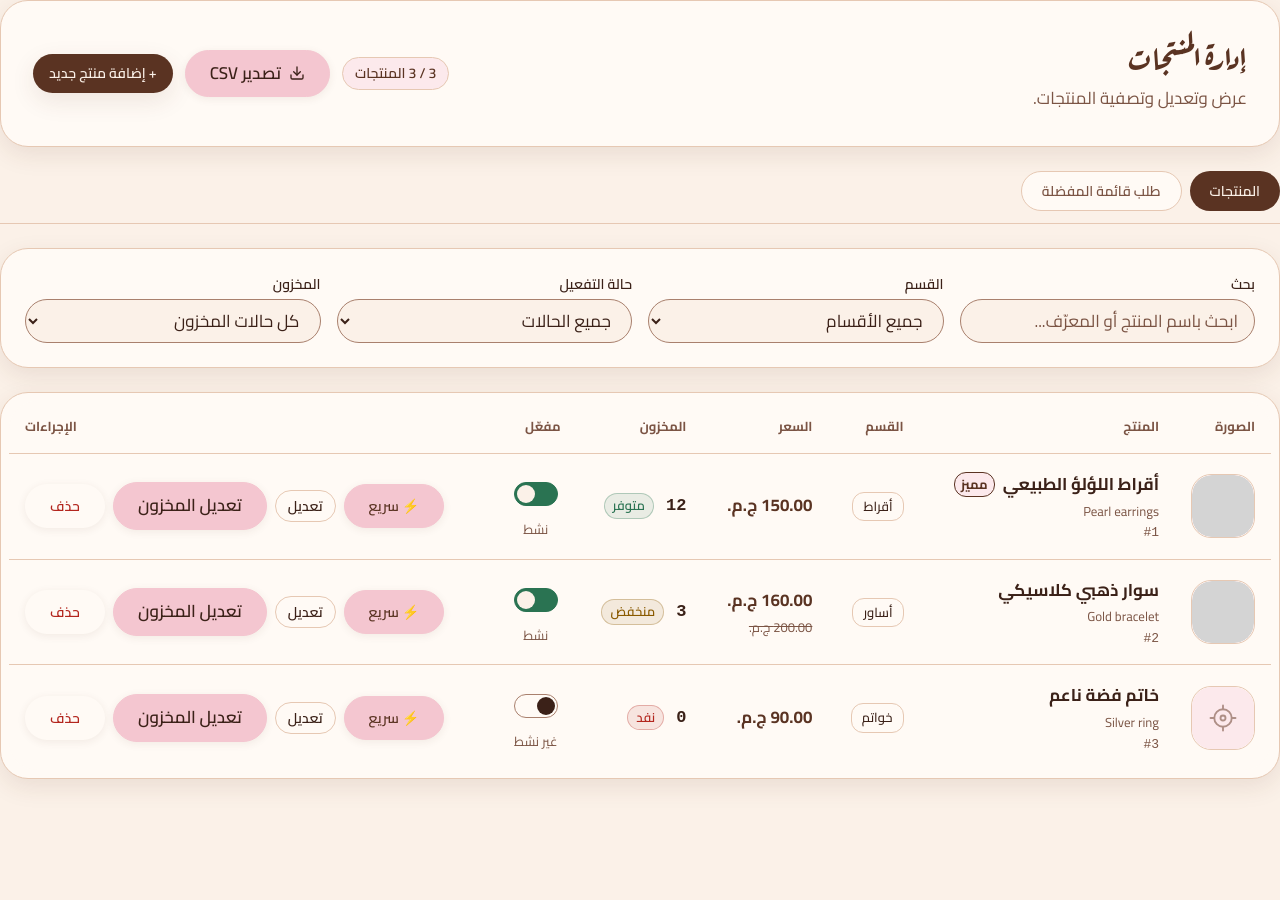
Test case: Admin Products Management (T-5.02) › Inline stock editing › opens dialog with current stock and rejects negative input
This screenshot has width=1280, height=900.
Expected: the text "أقراط اللؤلؤ الطبيعي" is shown, [1003,470,1159,500]
// Click edit stock button on product 1 (stock 12)
Click the button with aria-label "تعديل مخزون أقراط اللؤلؤ الطبيعي" at (190, 506), box [113,482,267,530]
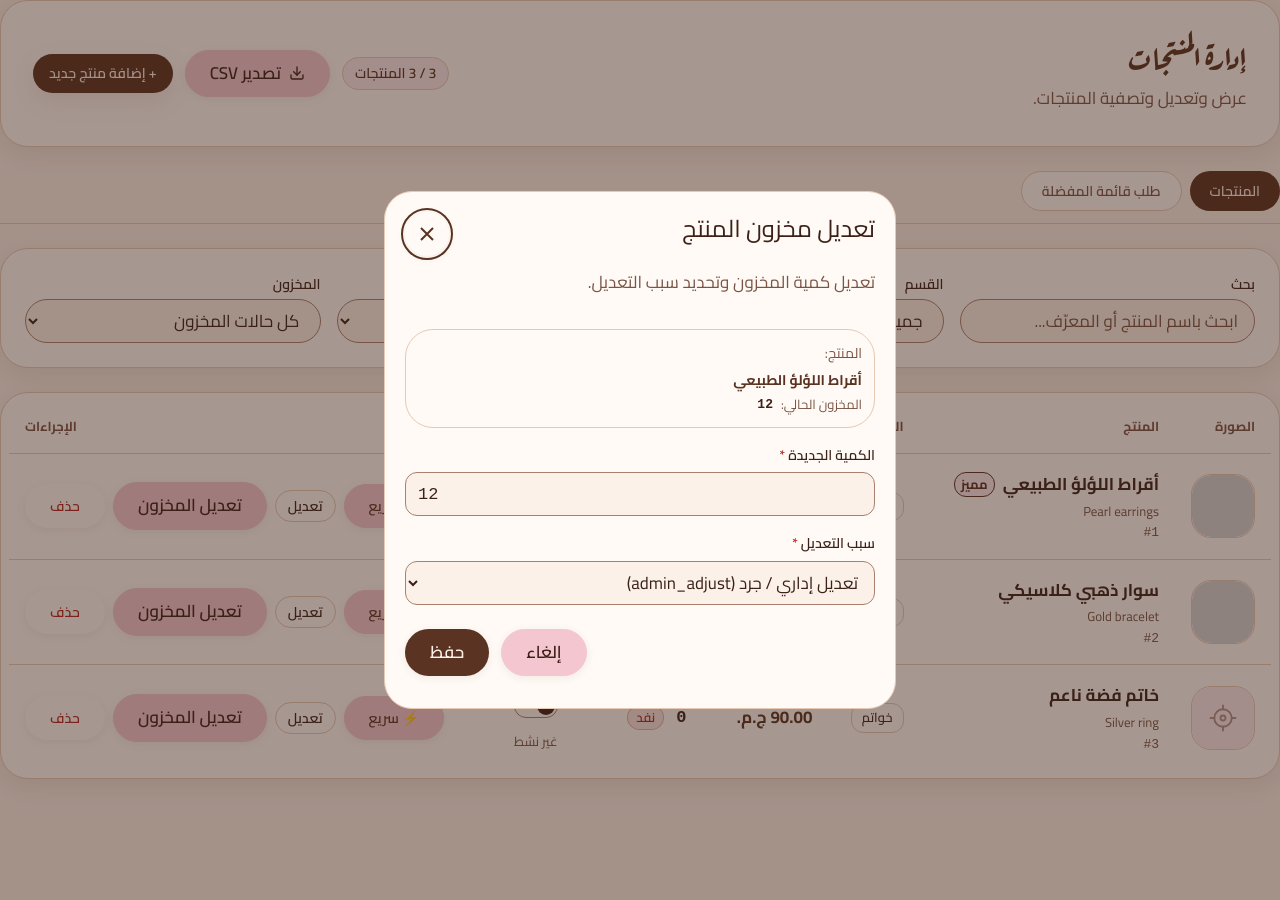
Expected: the dialog is shown, [384,191,896,709]
Expected: the heading "تعديل مخزون المنتج" is shown, [682,212,875,245]
Expected: the number field labelled "الكمية الجديدة *" holds "12"
// Enter negative quantity
Clear the number field labelled "الكمية الجديدة *" at (640, 494), box [405,472,875,516]
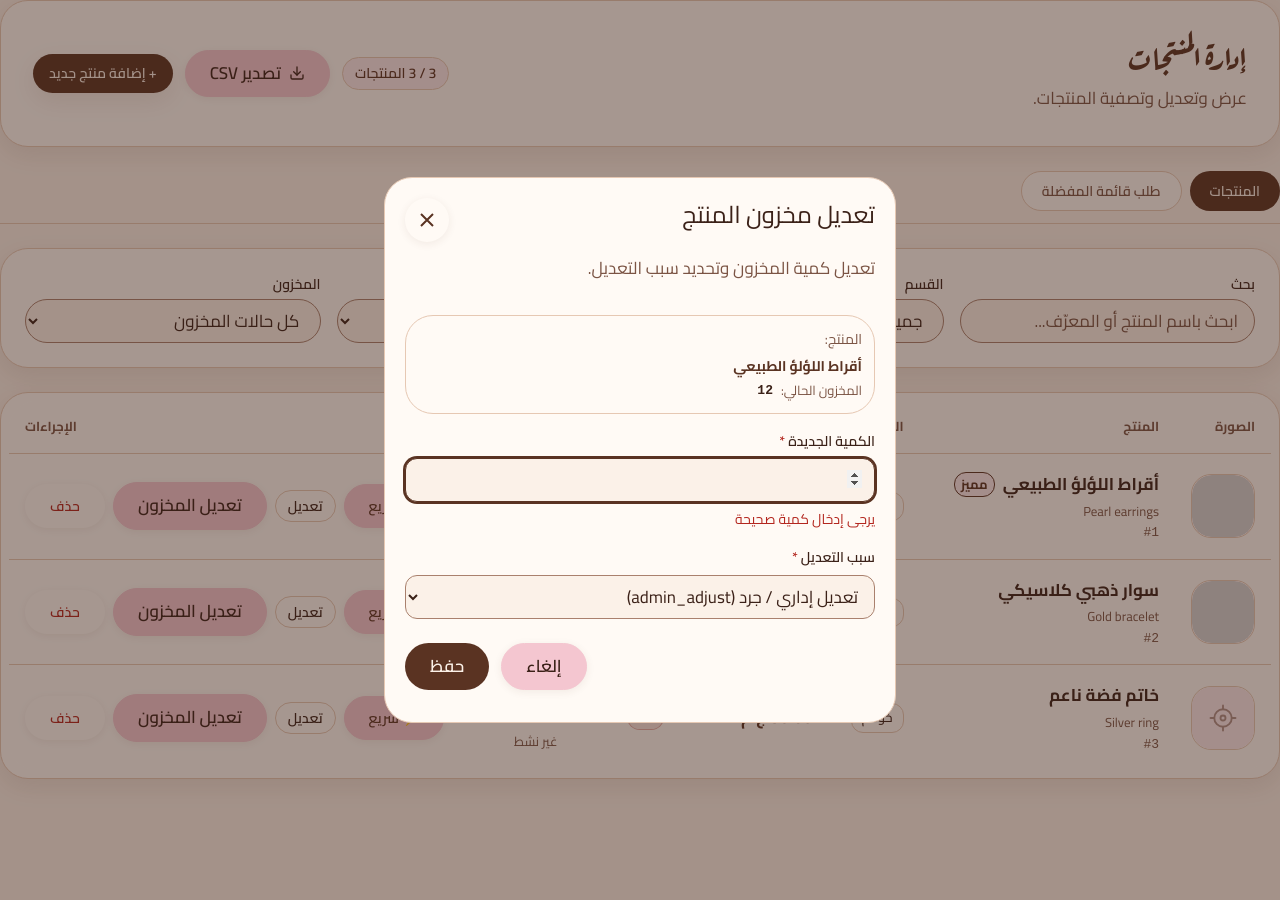
Type "-3" into the number field labelled "الكمية الجديدة *" at (640, 480), box [405,458,875,502]
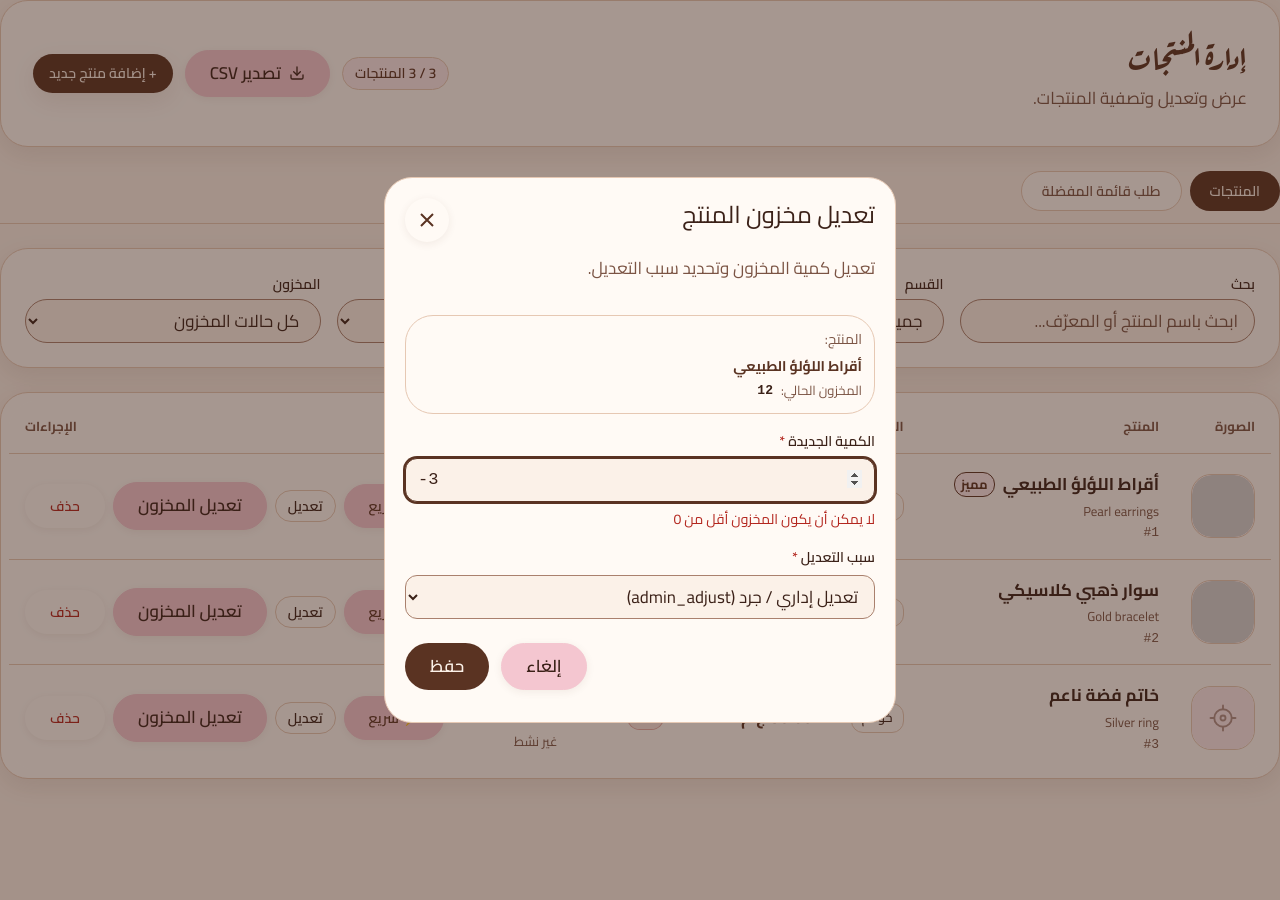
Expected: the button "حفظ" is disabled, [405,643,489,690]
Expected: the text "لا يمكن أن يكون المخزون أقل من 0" is shown, [673,506,875,532]
